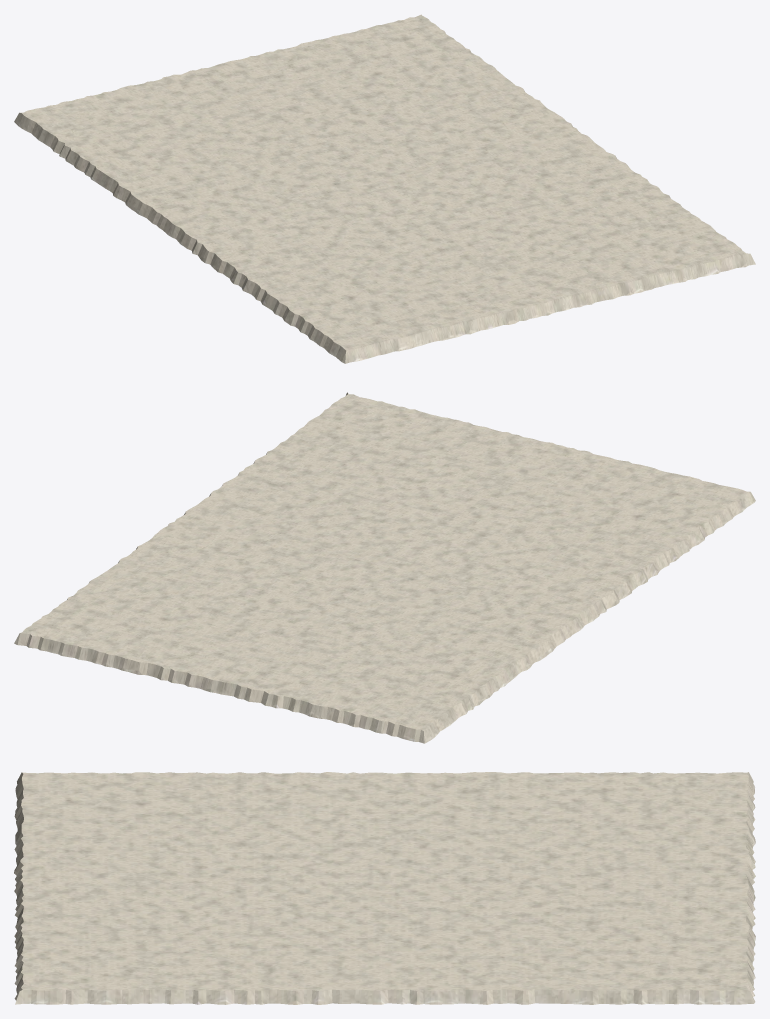
The model's file is rug-shag-cream.glb.
3 renders of one model, top to bottom at view 1: azimuth 30°, elevation 25°; view 2: azimuth 150°, elevation 25°; view 3: azimuth 270°, elevation 25°, orthographic. The views are drawn at different scales.
Parts seen in each view (by area): view 1: rug-shag-cream; view 2: rug-shag-cream; view 3: rug-shag-cream.
Part boxes in pixels (<box>): rug-shag-cream: <box>14,14,755,363</box>; rug-shag-cream: <box>14,392,755,743</box>; rug-shag-cream: <box>14,772,755,1004</box>.
Bounding box in the file's own units: 1.51 × 0.0351 × 2.11.
1 material, 1 textured.
